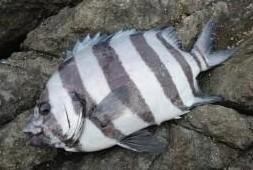fish: (22, 18, 235, 151)
